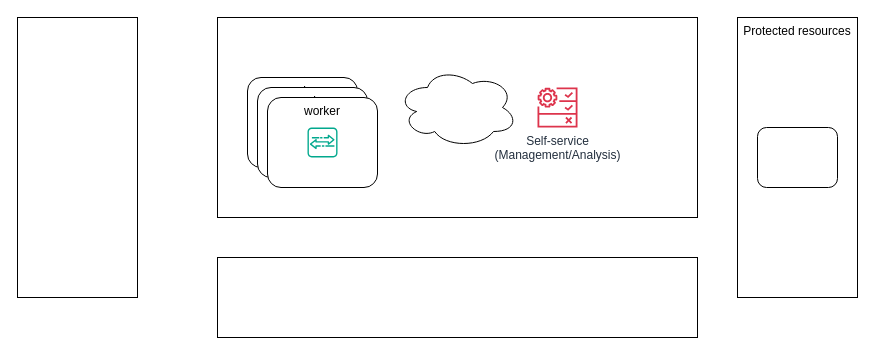
This 875x355 diagram has some shape labels left out. The centre of each missing label's shape, as x and y in pixels:
"Cloud WAF-as-a-Service" goes at point (457, 107).
"Internet/Intranet" goes at point (77, 157).
"WAF a gent" goes at point (322, 142).
